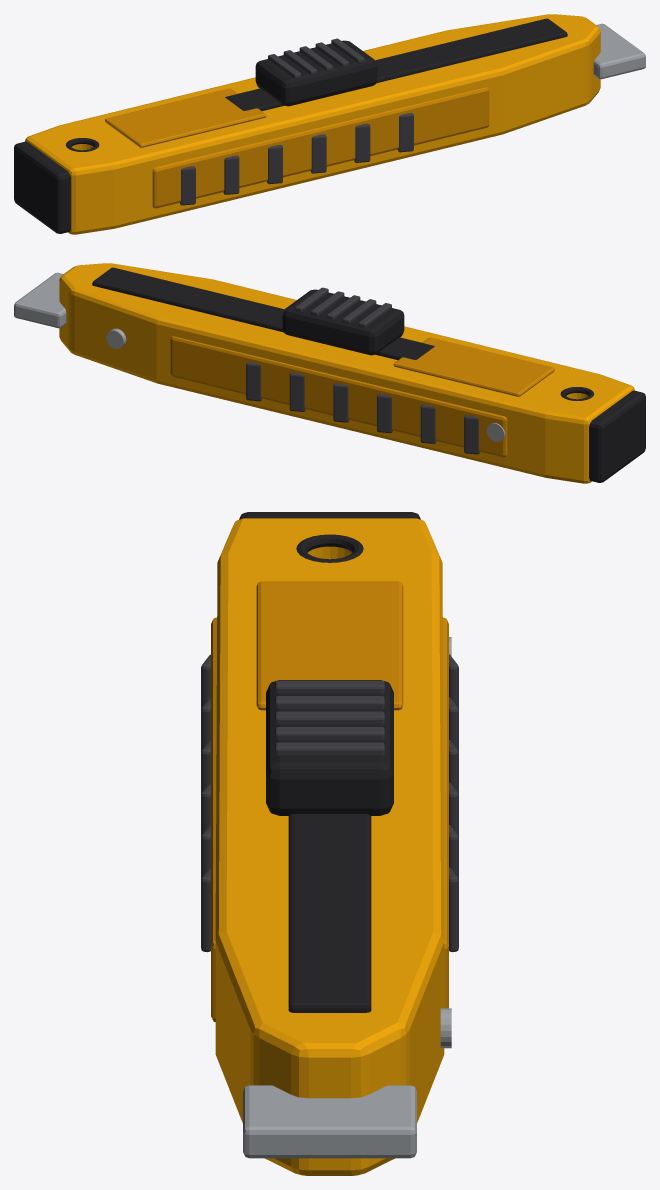
Rendered from knife_retracted.glb.
3 views of the same model, one above another, from view 1: azimuth 30°, elevation 25°; view 2: azimuth 150°, elevation 25°; view 3: azimuth 270°, elevation 25° (orthographic). The views are drawn at different scales.
Parts seen in each view (by area): view 1: PlasticBody, GripPanel_R, SliderSlot, TopInset, ThumbSlider, TailCap, MetalGuide, GripRib_R1, GripRib_R3, GripRib_R4, GripRib_R0, GripRib_R5 (+1 smaller); view 2: PlasticBody, GripPanel_L, SliderSlot, TopInset, ThumbSlider, TailCap, MetalGuide, GripRib_L1, GripRib_L3, GripRib_L4, GripRib_L0, GripRib_L5 (+2 smaller); view 3: PlasticBody, SliderSlot, TopInset, MetalGuide, ThumbSlider, GripPanel_R, GripPanel_L, SliderRib0, SliderRib4, SliderRib2, SliderRib1, SliderRib3 (+2 smaller).
Part boxes in pixels (box(x1,y1,x2,y2)): PlasticBody: box(25, 14, 600, 234); GripPanel_R: box(152, 87, 489, 208); SliderSlot: box(225, 18, 567, 110); TopInset: box(105, 88, 266, 147); ThumbSlider: box(255, 40, 377, 106); TailCap: box(14, 141, 70, 233); MetalGuide: box(593, 23, 645, 79); GripRib_R1: box(223, 155, 239, 194); GripRib_R3: box(310, 134, 326, 173); GripRib_R4: box(354, 123, 370, 162); GripRib_R0: box(180, 166, 195, 205); GripRib_R5: box(398, 113, 413, 152); PlasticBody: box(59, 263, 634, 483); GripPanel_L: box(170, 336, 507, 457); SliderSlot: box(92, 267, 434, 359); TopInset: box(393, 337, 554, 396); ThumbSlider: box(282, 289, 404, 355); TailCap: box(589, 390, 645, 482); MetalGuide: box(14, 272, 66, 328); GripRib_L1: box(420, 404, 436, 443); GripRib_L3: box(333, 383, 349, 422); GripRib_L4: box(289, 372, 305, 411); GripRib_L0: box(464, 415, 479, 454); GripRib_L5: box(246, 362, 261, 401); PlasticBody: box(215, 518, 444, 1175); SliderSlot: box(288, 814, 371, 1012); TopInset: box(256, 581, 403, 710); MetalGuide: box(243, 1085, 416, 1158); ThumbSlider: box(266, 680, 393, 815); GripPanel_R: box(211, 617, 216, 1021); GripPanel_L: box(443, 617, 448, 1008); SliderRib0: box(275, 680, 384, 694); SliderRib4: box(275, 742, 384, 756); SliderRib2: box(275, 711, 384, 725); SliderRib1: box(275, 696, 384, 709); SliderRib3: box(275, 727, 384, 740).
Size of the model in its own units: 0.149 by 0.0236 by 0.0282.
